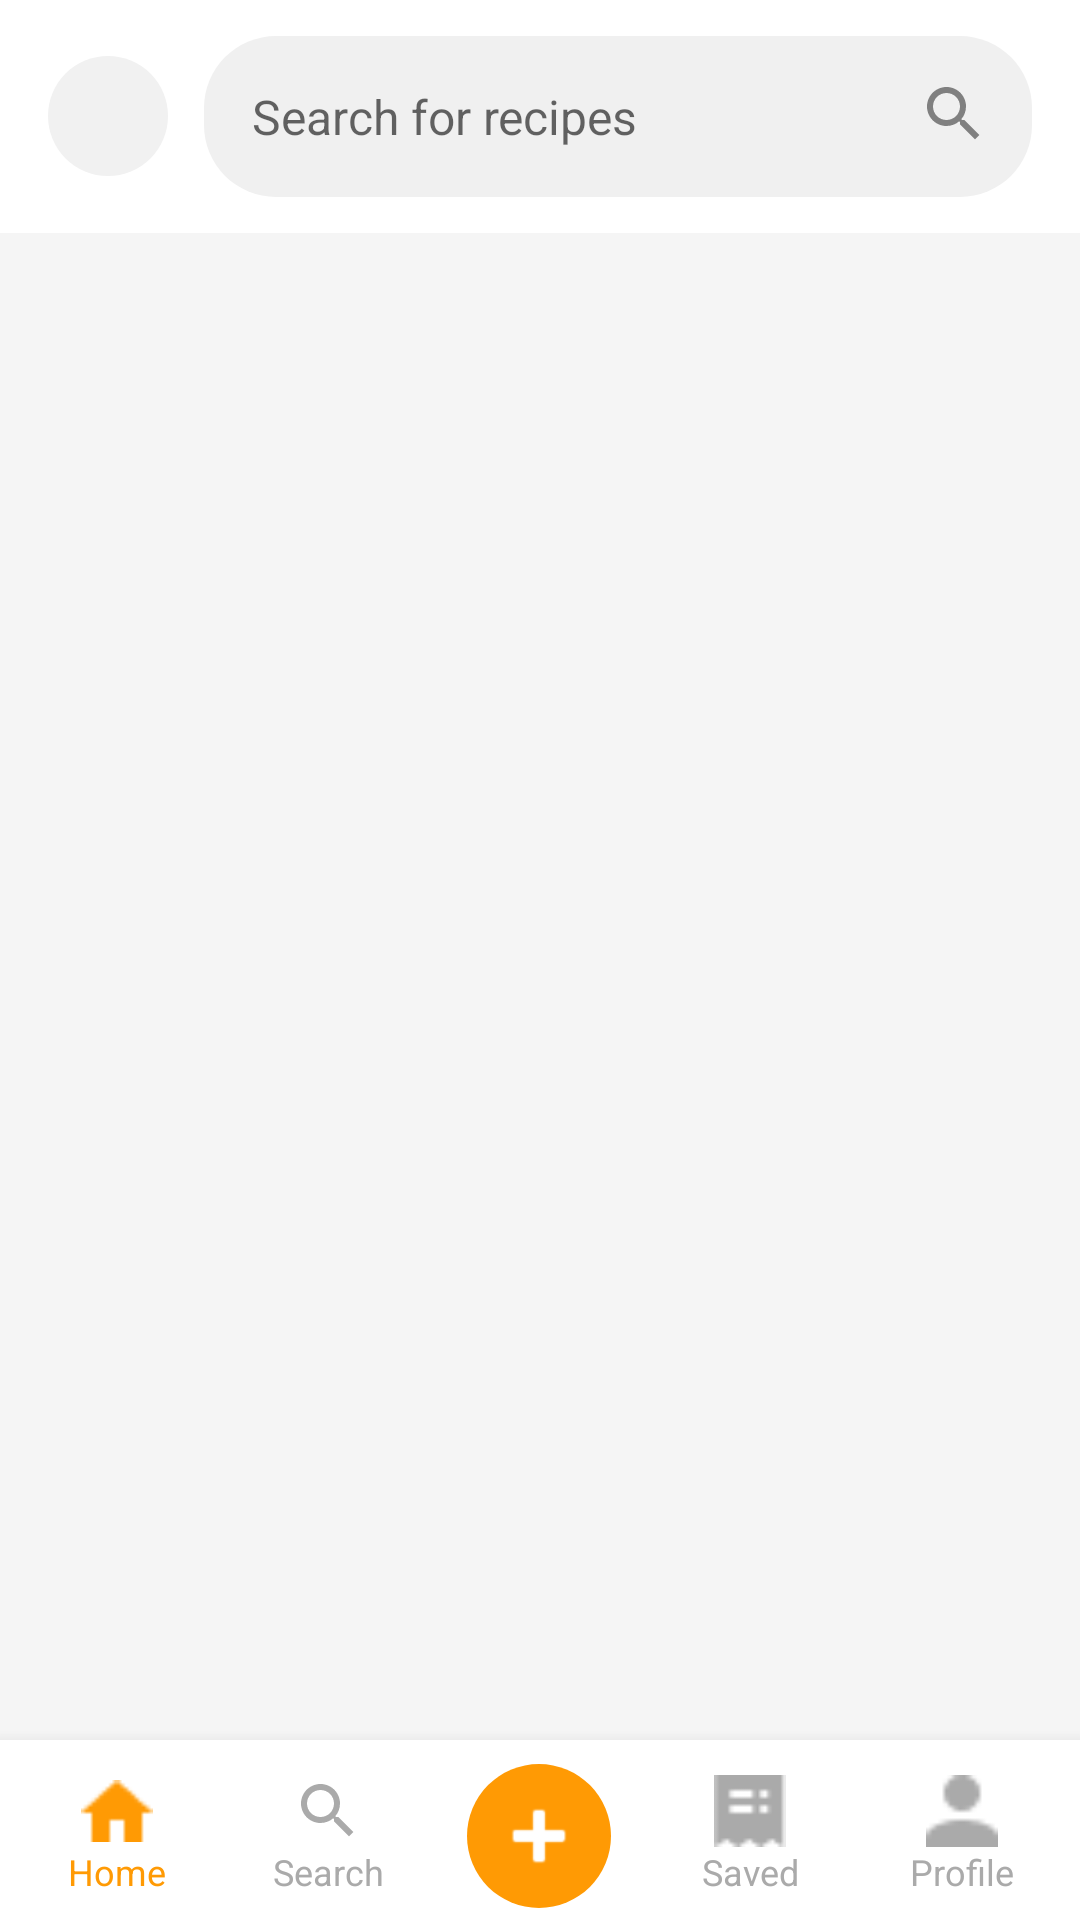

Named icons in this screenshot (1080px x 1920px) and their centers, (x,y):
add: (539,1836)
